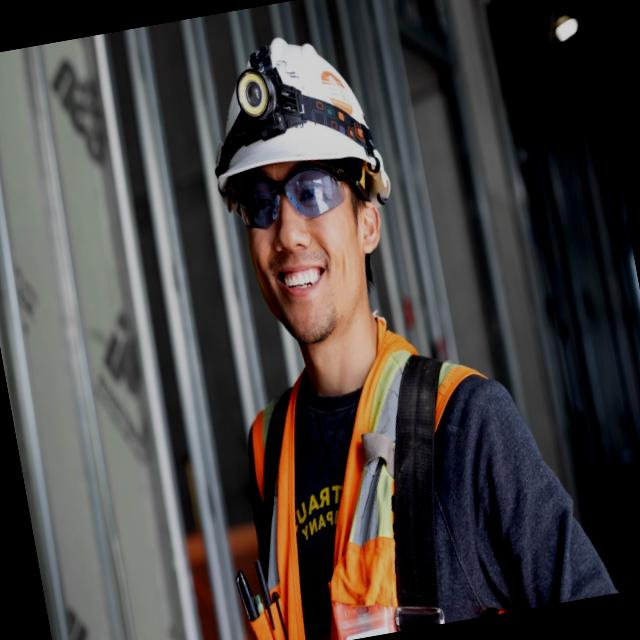goggles: (223, 157, 354, 236)
helmet: (194, 34, 380, 197)
vest: (219, 306, 525, 640)
